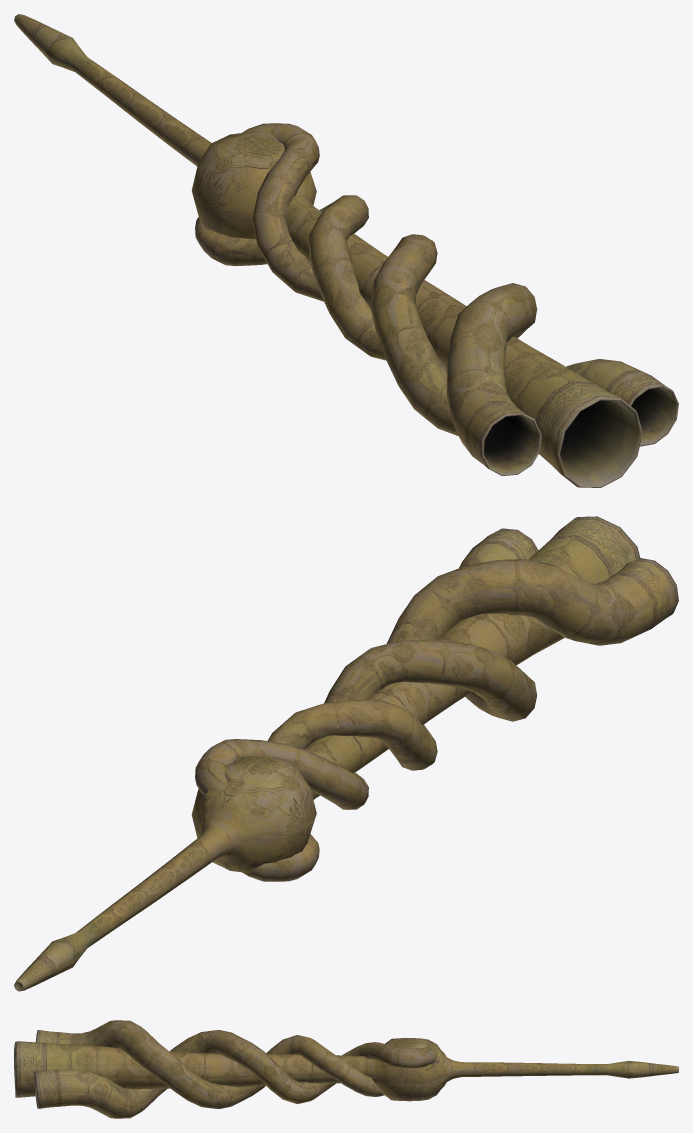
File: envoyslonghorn.fbx
3 renders of one model, top to bottom at view 1: azimuth 30°, elevation 25°; view 2: azimuth 150°, elevation 25°; view 3: azimuth 270°, elevation 25°, orthographic. The views are drawn at different scales.
Parts seen in each view (by area): view 1: WP_A_4015; view 2: WP_A_4015; view 3: WP_A_4015.
Part boxes in pixels (left/top/right/bottom): WP_A_4015: left=14, top=14, right=678, bottom=487; WP_A_4015: left=14, top=516, right=678, bottom=991; WP_A_4015: left=14, top=1020, right=678, bottom=1118.
Bounding box in the file's own units: 35.64 × 25.66 × 183.
Materials: 1 (1 with a texture image).
